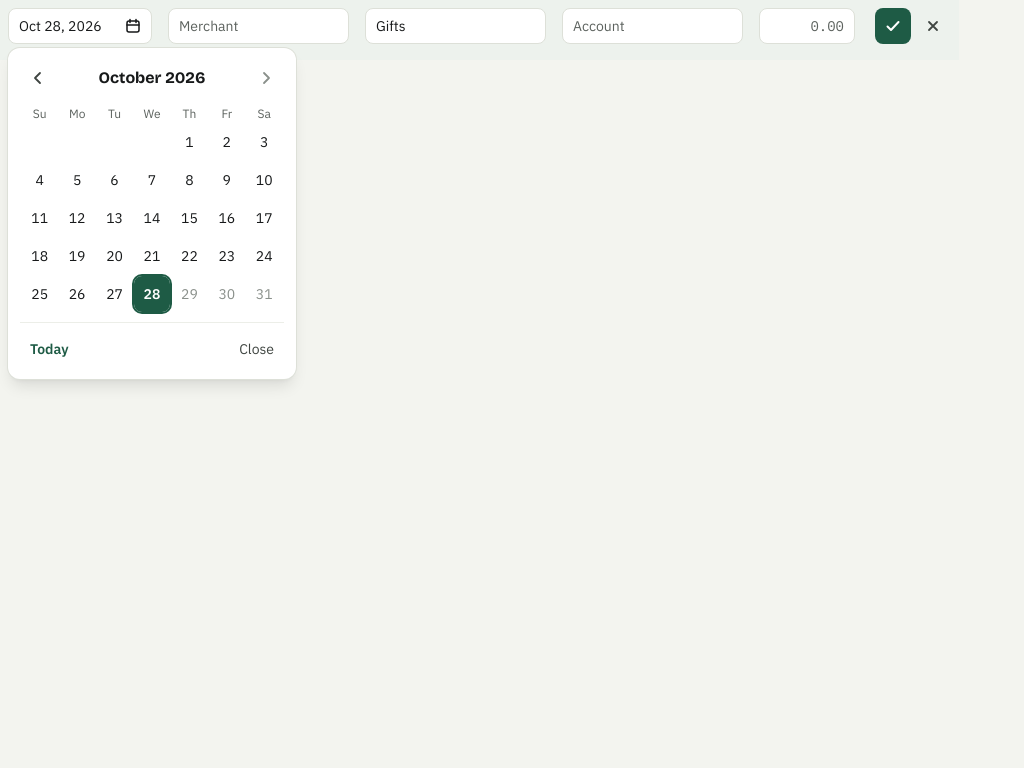
EntryRow › never overwrites a category already chosen, and fills nothing for a new merchant
Click the dropdown labelled "Merchant": (258, 26) [168, 8, 349, 44]
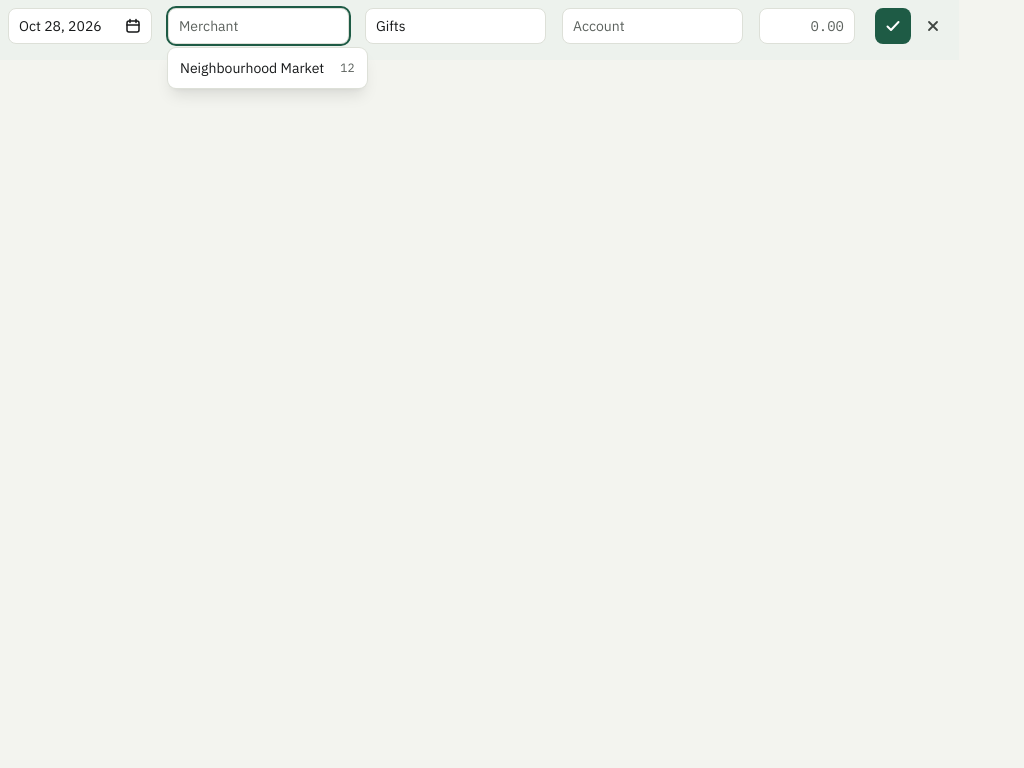
Type keys "Neighbourhood Market"
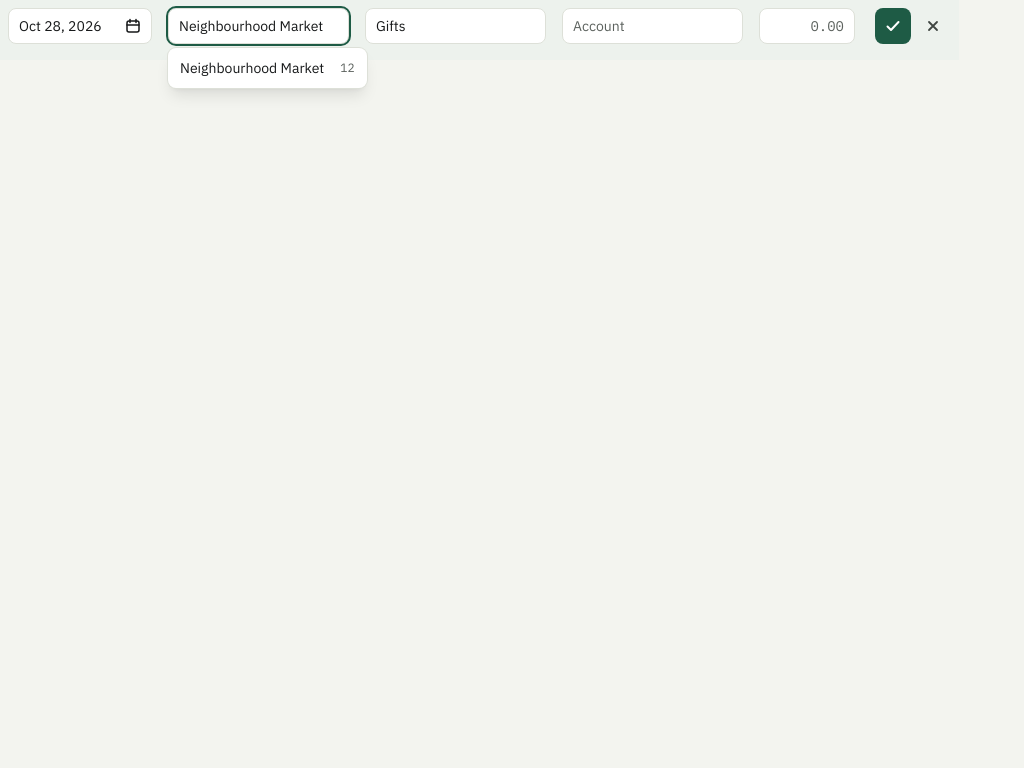
Press Tab
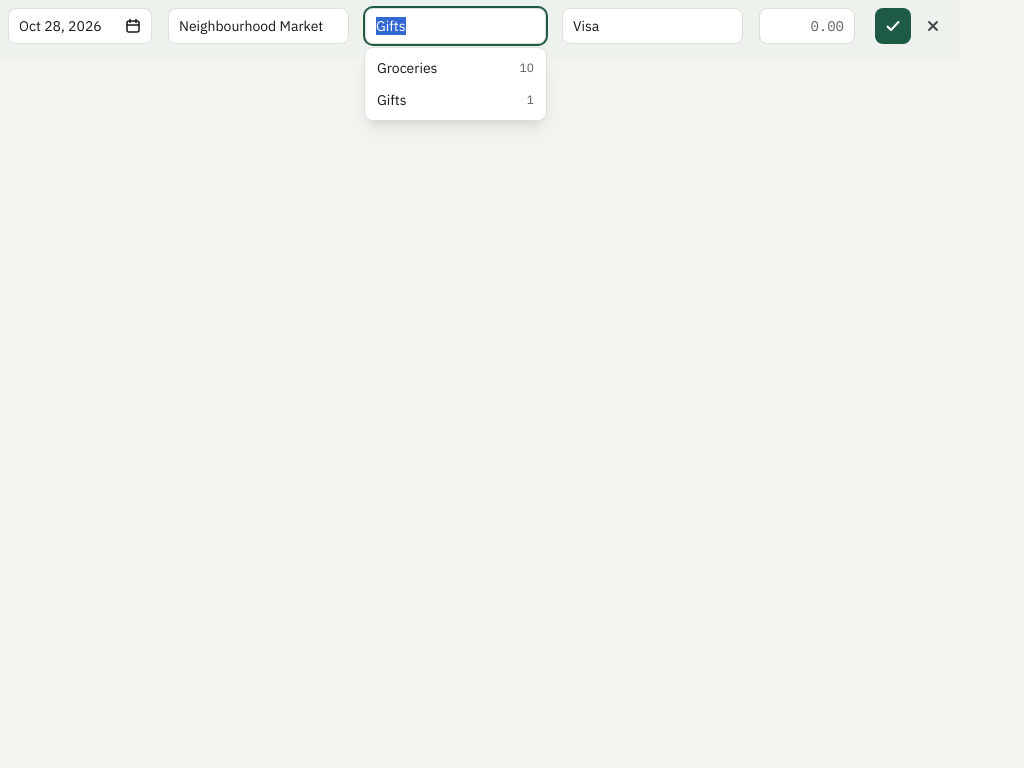
Check: the dropdown named "Category" holds "Gifts", box [365, 8, 546, 44]
Check: the dropdown named "Account" holds "Visa", box [562, 8, 743, 44]
